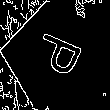P_SE: (28, 30, 90, 84)
